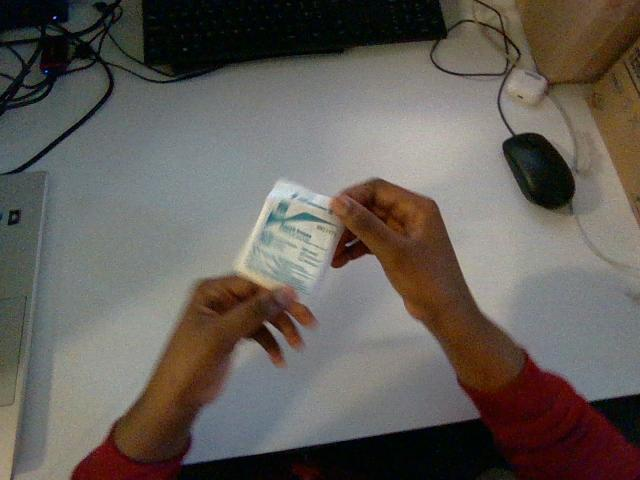gauze: (235, 180, 342, 297)
